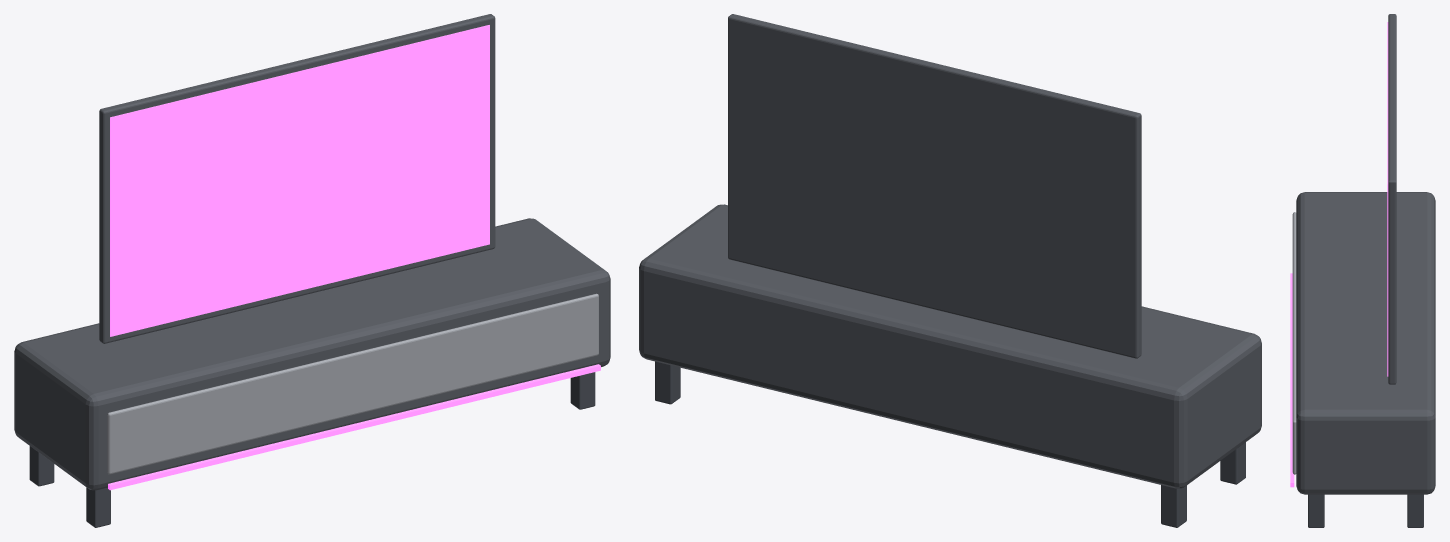
The model's file is tv_unit_media_console.glb.
3 renders of one model, left to right at view 1: azimuth 30°, elevation 25°; view 2: azimuth 150°, elevation 25°; view 3: azimuth 270°, elevation 25°, orthographic. The views are drawn at different scales.
Parts seen in each view (by area): view 1: GD_tv_unit_media_console__m3, GD_tv_unit_media_console__m1, GD_tv_unit_media_console__m2, GD_tv_unit_media_console__m4, GD_tv_unit_media_console__m0; view 2: GD_tv_unit_media_console__m1, GD_tv_unit_media_console__m0; view 3: GD_tv_unit_media_console__m1, GD_tv_unit_media_console__m2, GD_tv_unit_media_console__m0, GD_tv_unit_media_console__m3, GD_tv_unit_media_console__m4.
Boxes of the visible parts, x1=… form: GD_tv_unit_media_console__m3: x1=110, y1=25, x2=489, y2=336; GD_tv_unit_media_console__m1: x1=14, y1=14, x2=610, y2=490; GD_tv_unit_media_console__m2: x1=107, y1=293, x2=598, y2=474; GD_tv_unit_media_console__m4: x1=108, y1=364, x2=600, y2=490; GD_tv_unit_media_console__m0: x1=29, y1=372, x2=595, y2=527; GD_tv_unit_media_console__m1: x1=639, y1=14, x2=1261, y2=488; GD_tv_unit_media_console__m0: x1=655, y1=361, x2=1245, y2=527; GD_tv_unit_media_console__m1: x1=1296, y1=14, x2=1435, y2=494; GD_tv_unit_media_console__m2: x1=1292, y1=212, x2=1296, y2=474; GD_tv_unit_media_console__m0: x1=1308, y1=494, x2=1423, y2=527; GD_tv_unit_media_console__m3: x1=1387, y1=22, x2=1388, y2=376; GD_tv_unit_media_console__m4: x1=1290, y1=273, x2=1294, y2=487.
Size of the model in its own units: 1.6 by 1.08 by 0.438.
